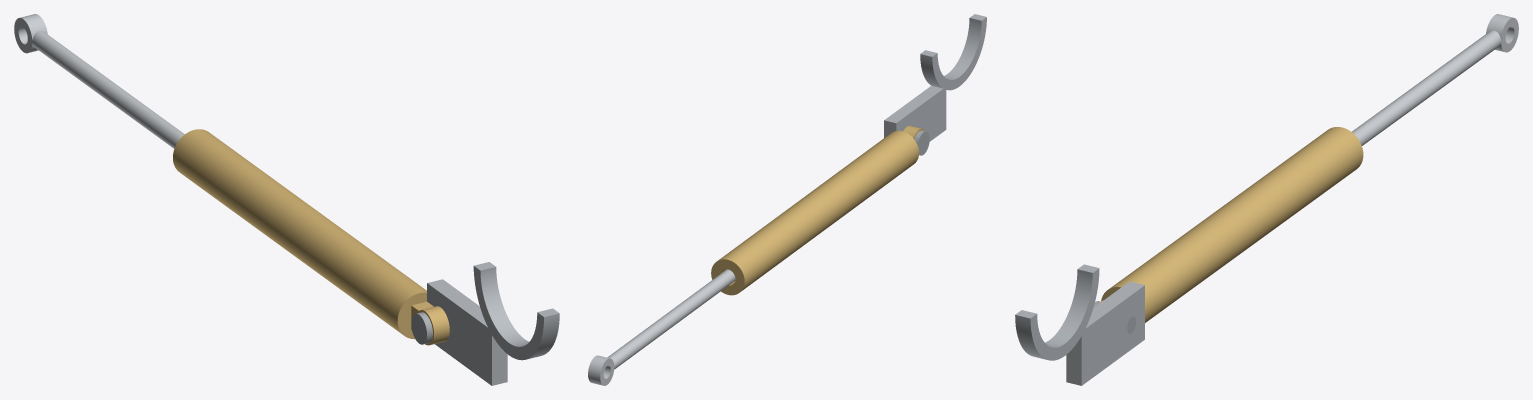
File: step_03.glb
3 renders of one model, left to right at view 1: azimuth 30°, elevation 25°; view 2: azimuth 150°, elevation 25°; view 3: azimuth 330°, elevation 25°, orthographic. The views are drawn at different scales.
Parts seen in each view (by area): view 1: part__recline lock, part__recline lock bracket, part__recline lock rod, part__recline lock pin, front; view 2: part__recline lock, part__recline lock bracket, part__recline lock rod; view 3: part__recline lock, part__recline lock bracket, part__recline lock rod.
Boxes of the visible parts, x1,y1,x2,y2 form: part__recline lock: (173, 129, 449, 345); part__recline lock bracket: (427, 262, 559, 385); part__recline lock rod: (14, 14, 184, 148); part__recline lock pin, front: (411, 312, 432, 344); part__recline lock: (711, 125, 924, 295); part__recline lock bracket: (884, 14, 986, 141); part__recline lock rod: (588, 269, 735, 385); part__recline lock: (1099, 127, 1363, 322); part__recline lock bracket: (1015, 264, 1144, 385); part__recline lock rod: (1352, 14, 1518, 145).
Size of the model in its own units: 23 by 52 by 453.
